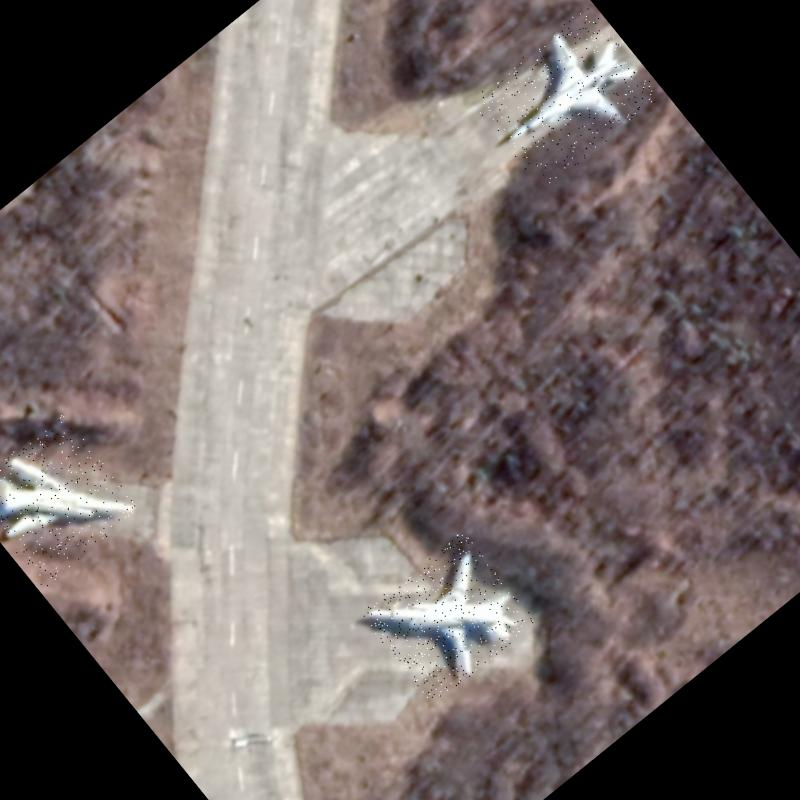A12: (470, 4, 662, 191), (359, 530, 537, 705), (0, 411, 141, 588)
